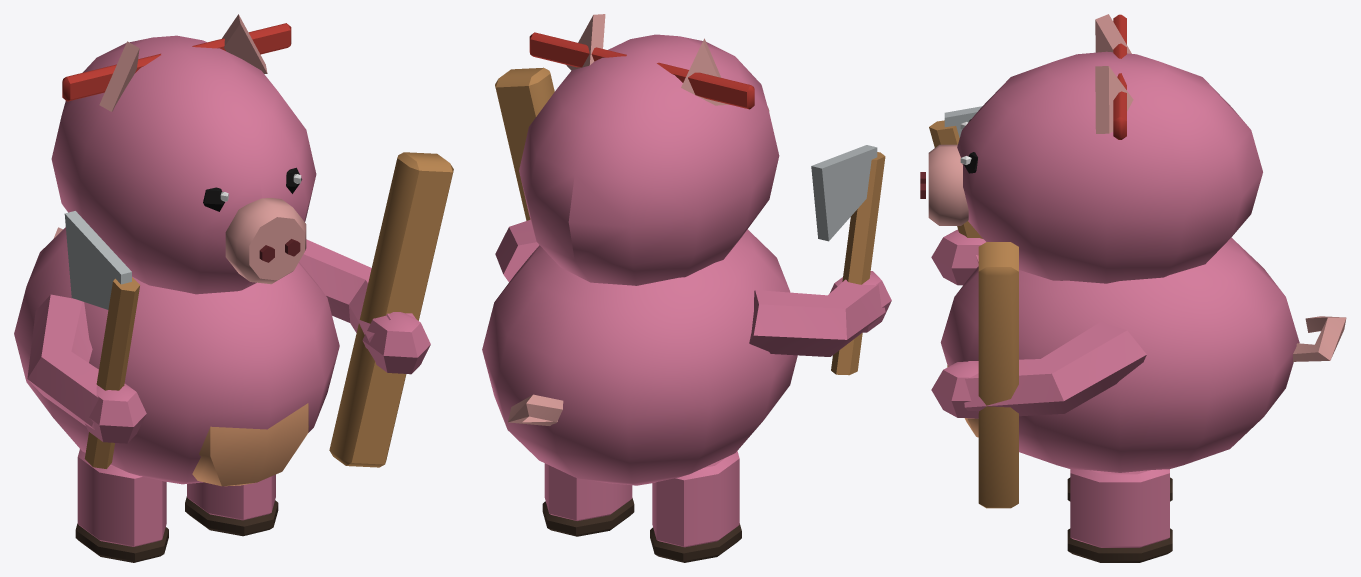
Rendered from 169_cochon_bucheron.fbx.
3 views of the same model, side by side, from view 1: azimuth 30°, elevation 25°; view 2: azimuth 150°, elevation 25°; view 3: azimuth 270°, elevation 25° (orthographic). The views are drawn at different scales.
Parts seen in each view (by area): view 1: Corps, Accessoire; view 2: Corps, Accessoire; view 3: Corps, Accessoire.
Boxes of the visible parts, bbox=[...] form: Corps: bbox=[14, 14, 430, 562]; Accessoire: bbox=[62, 23, 453, 468]; Corps: bbox=[482, 14, 891, 562]; Accessoire: bbox=[495, 32, 885, 375]; Corps: bbox=[920, 14, 1346, 562]; Accessoire: bbox=[929, 14, 1126, 508].
Size of the model in its own units: 0.56 by 0.7 by 0.56.
1 material, 1 textured.
